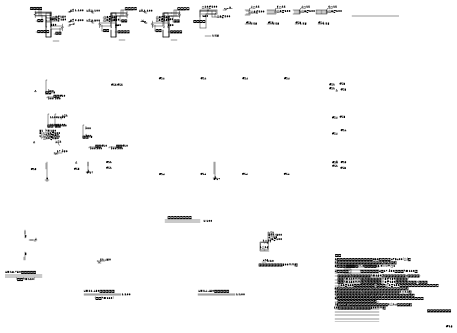room: (183, 302, 190, 317), (296, 75, 306, 85), (48, 302, 54, 318), (123, 302, 129, 317), (360, 327, 374, 331)
wall: (303, 327, 314, 331), (361, 327, 373, 330), (334, 327, 342, 331), (278, 326, 284, 331), (394, 52, 401, 56), (140, 322, 143, 330), (201, 322, 204, 330), (65, 309, 68, 316), (33, 323, 36, 330), (108, 312, 111, 319), (169, 312, 172, 319), (97, 317, 102, 319), (254, 331, 263, 332), (74, 328, 80, 329), (74, 318, 80, 319), (74, 314, 80, 315), (97, 328, 102, 329), (158, 328, 163, 329), (158, 317, 163, 318), (82, 168, 84, 170), (384, 169, 386, 171), (34, 244, 36, 245), (33, 190, 35, 191), (383, 245, 385, 246)
window: (58, 187, 63, 190), (65, 215, 69, 217), (66, 218, 69, 220), (59, 190, 62, 192), (60, 180, 63, 182), (110, 65, 113, 67), (57, 178, 59, 180), (59, 178, 61, 180), (107, 63, 109, 65), (109, 63, 111, 65)
